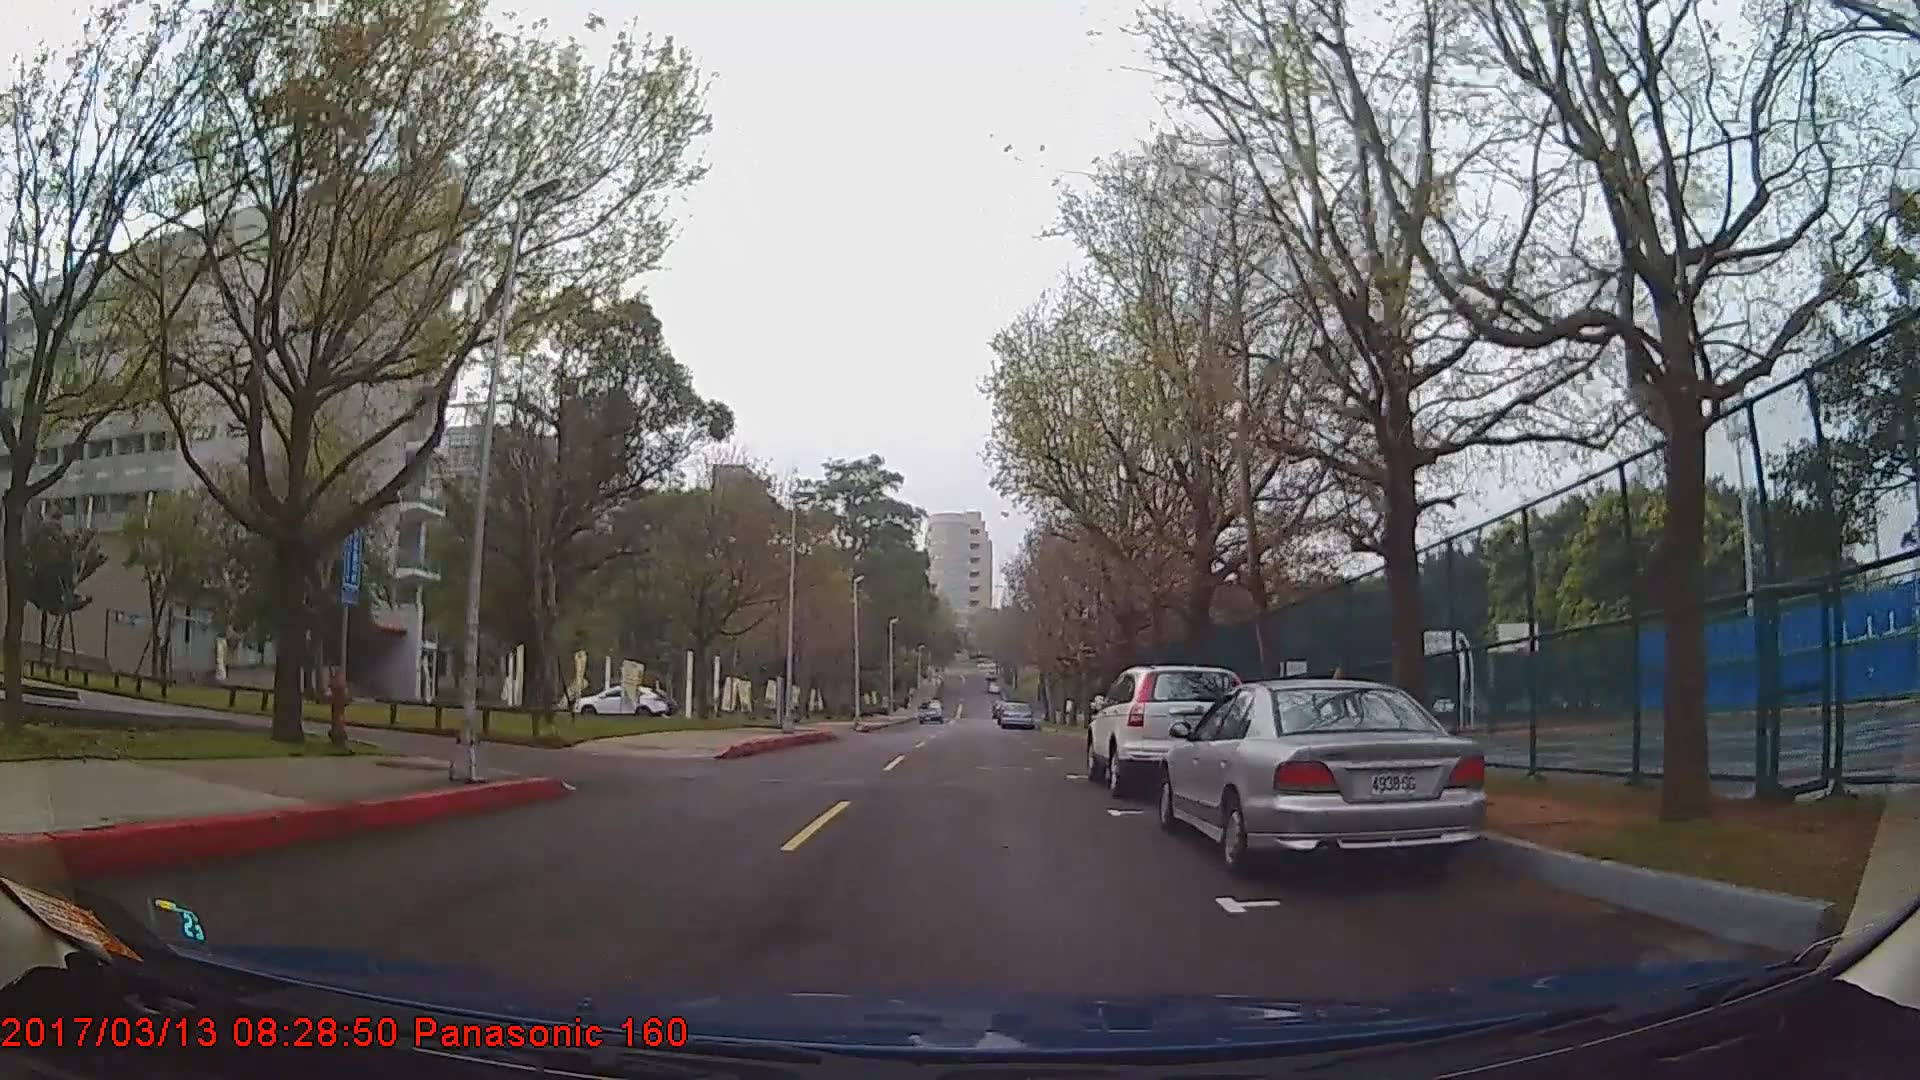vehicle: (1158, 676, 1486, 873), (1084, 665, 1247, 796), (572, 680, 670, 719), (996, 699, 1033, 729), (915, 695, 942, 723)
